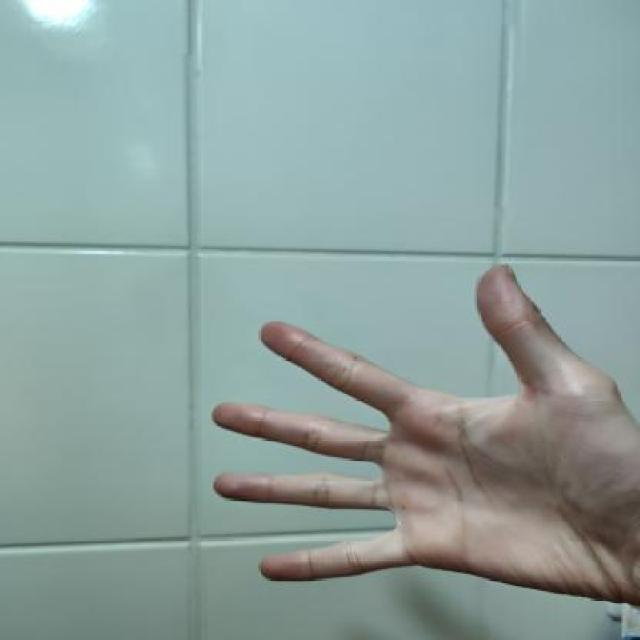bare_hand: (187, 256, 638, 638)
